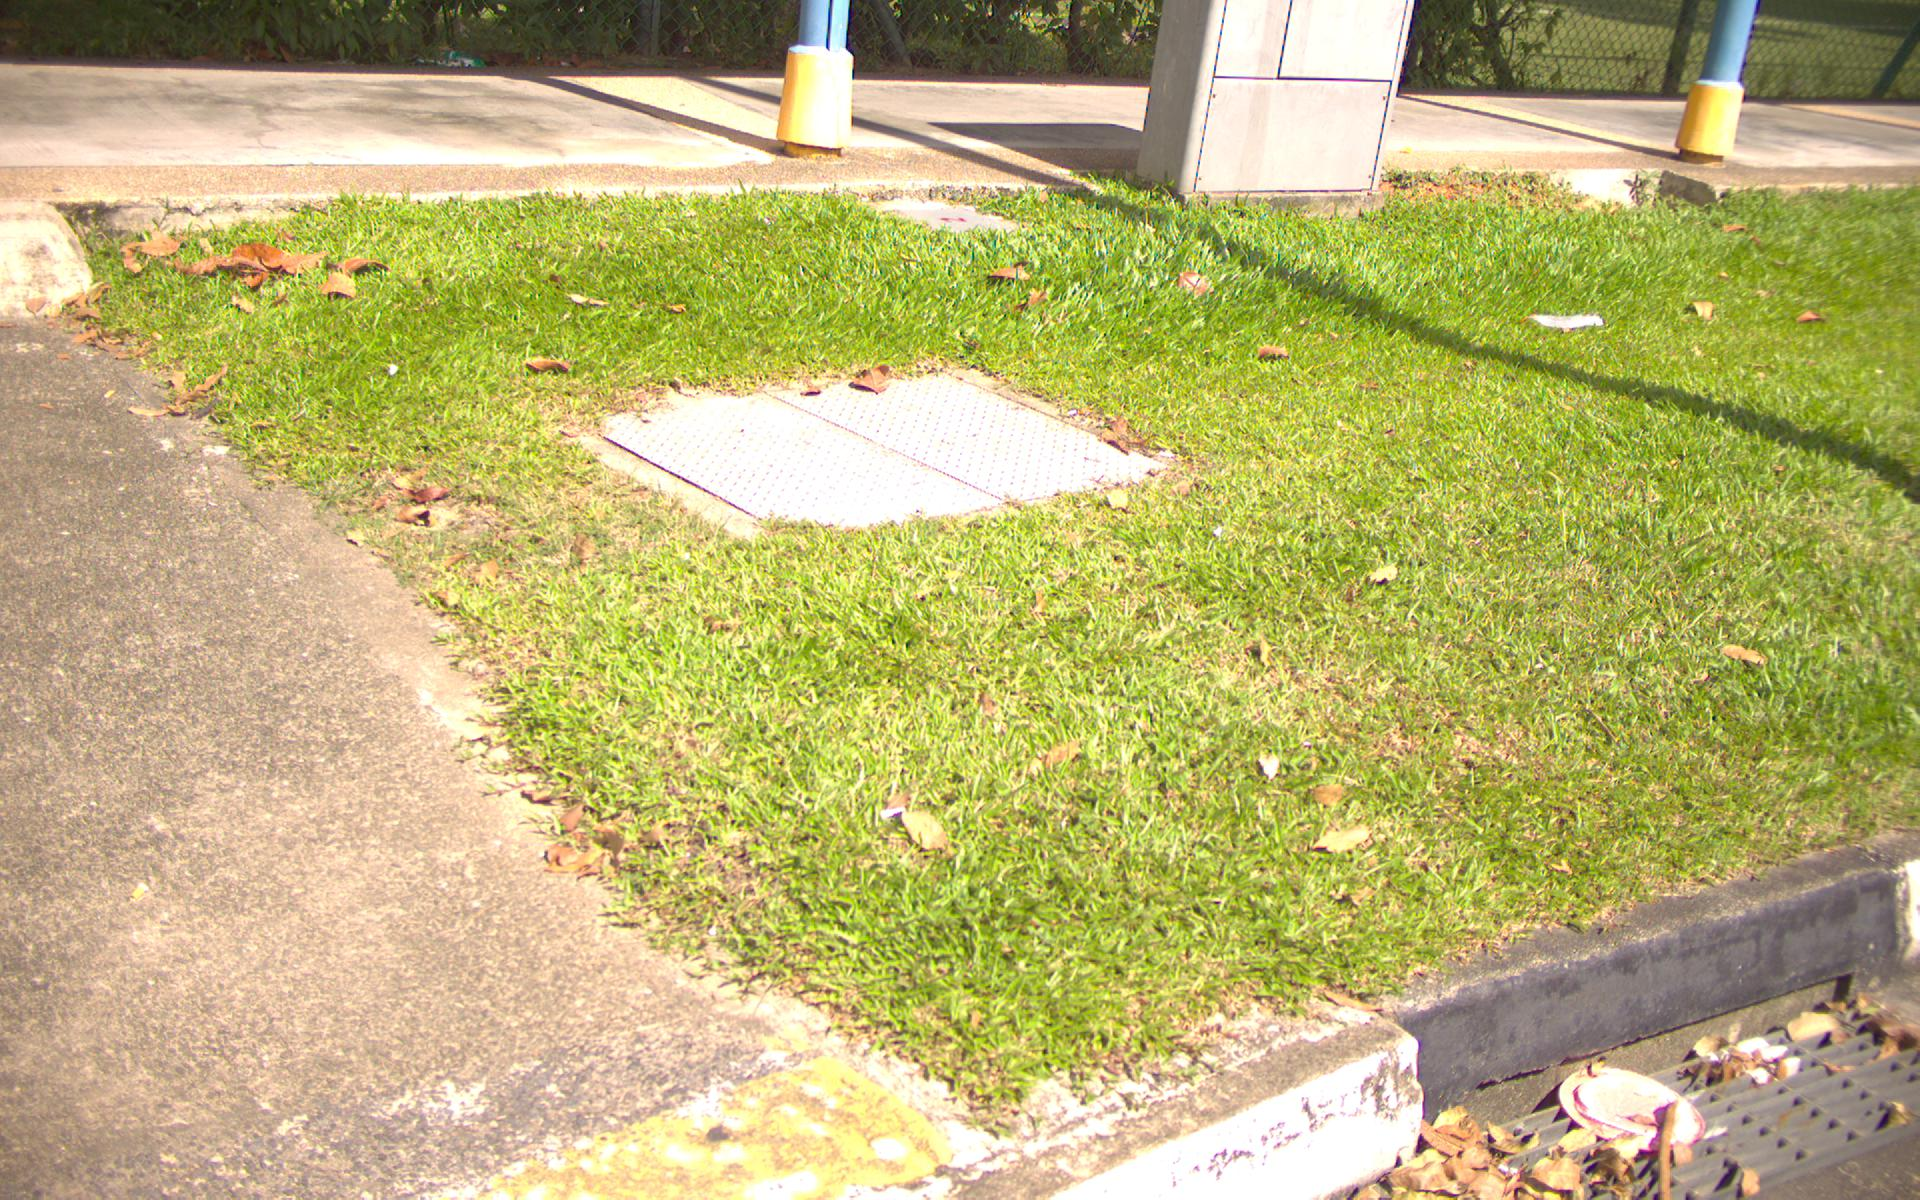pathway_low: (4, 473, 393, 1197)
road_turf_low: (536, 221, 1913, 731)
